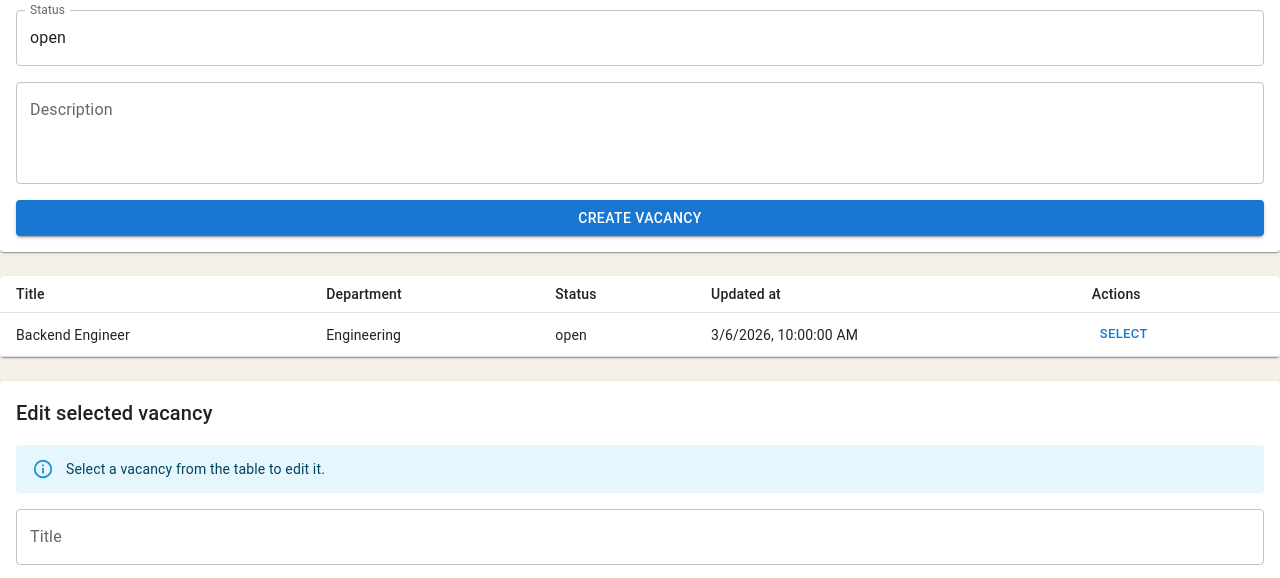
Test: HrDashboardPage › renders low-confidence manual review warning in english
This screenshot has width=1280, height=578.
(page scrolled)
Click the button "Select". click: (1124, 335)
box: [1092,319,1156,350]
(page scrolled)
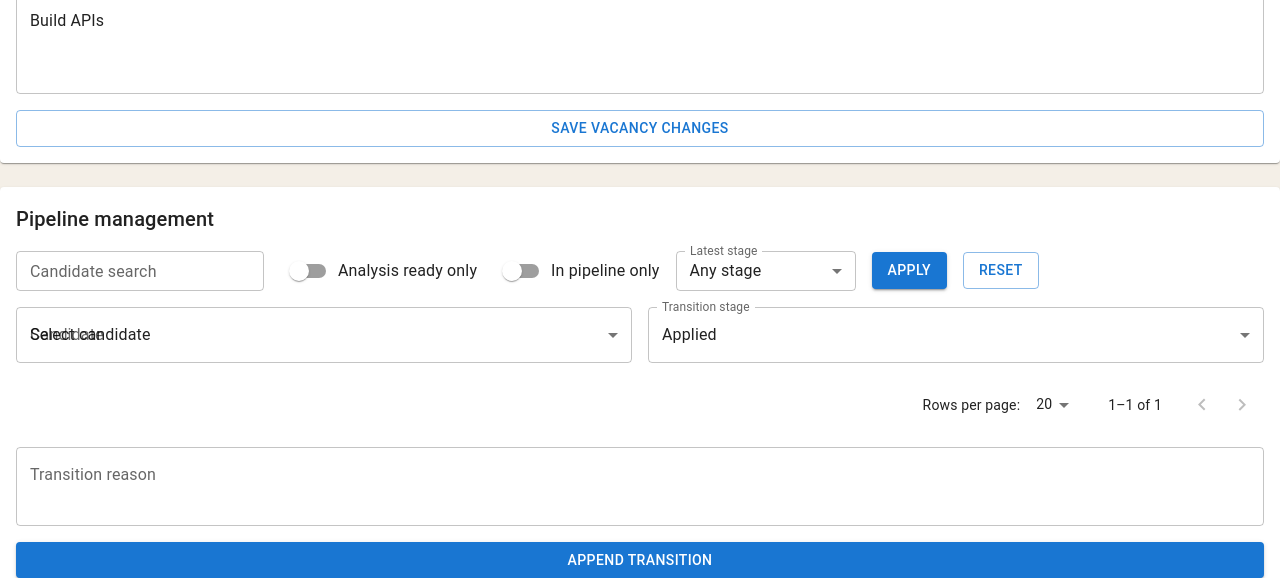
Select "John Doe (john@example.com)" in the dropdown labelled "Candidate". click: (324, 334)
box: [16,306,632,362]
(page scrolled)
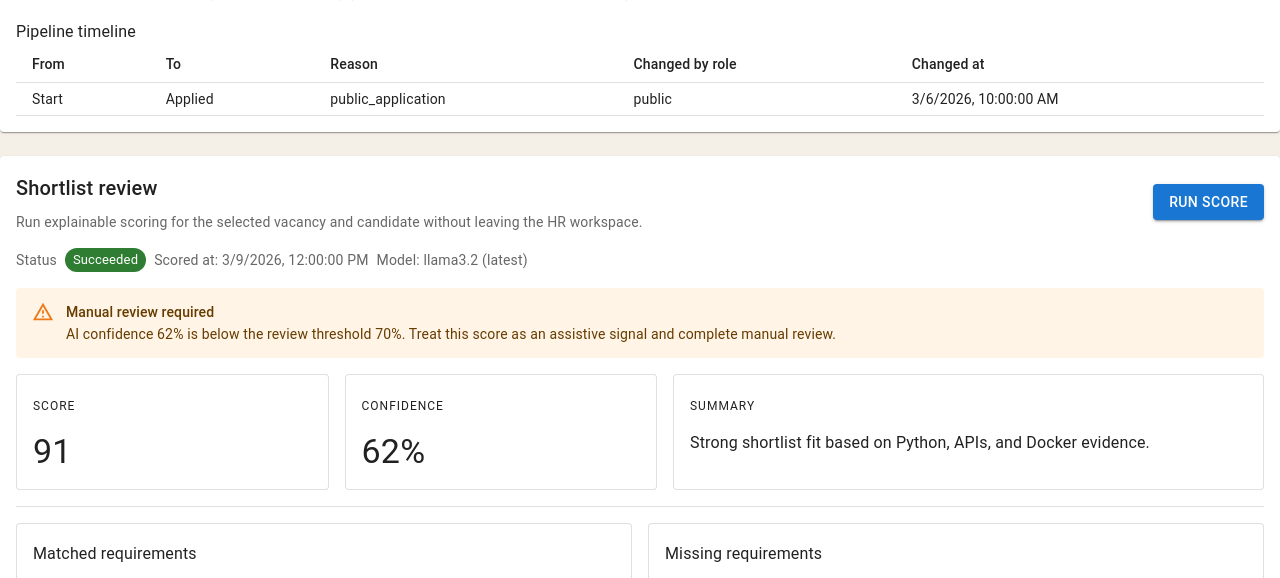
Expected: the heading "Manual review required" is shown, [66,304,214,320]
Expected: the text "AI confidence 62% is below the review threshold 70%" is shown, [66,326,836,342]
